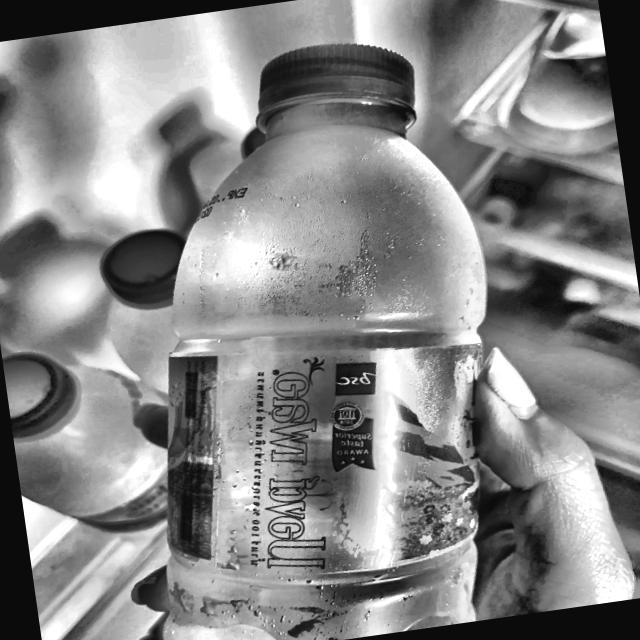waterbottle: (67, 10, 552, 640), (75, 190, 303, 611), (0, 314, 243, 612)
